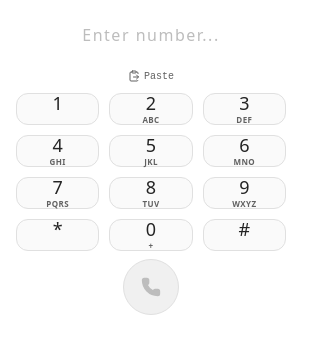
Test: DialerPad Component › handles backspace and clear buttons
Step 1. Click the text "5" → (151, 145), box [146,136,156,154]
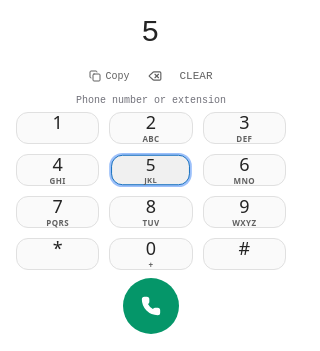
Step 2. Click the text "6" → (244, 164), box [239,155,250,173]
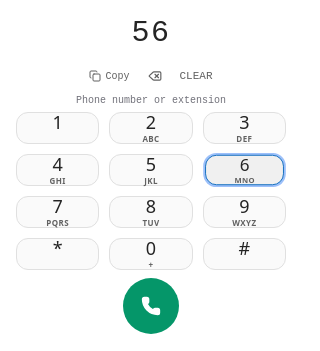
Now the text with test id "dial-display" reads "56", box [132,16,170,50]
Step 3. Click the button titled "Backspace" → (154, 76), box [144,65,166,87]
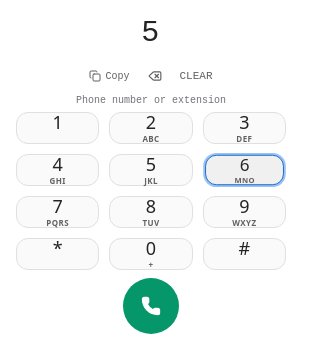
Now the text with test id "dial-display" reads "5", box [141,16,161,50]
Step 4. Click the button titled "Clear" → (196, 76), box [174,66,218,86]
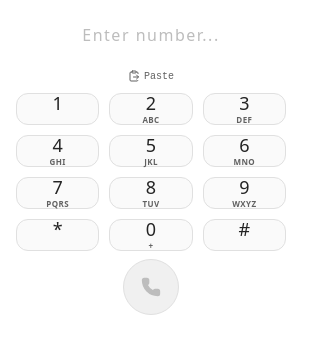
Now the element with test id "dial-display" reads "Enter number...", box [82,24,220,46]
